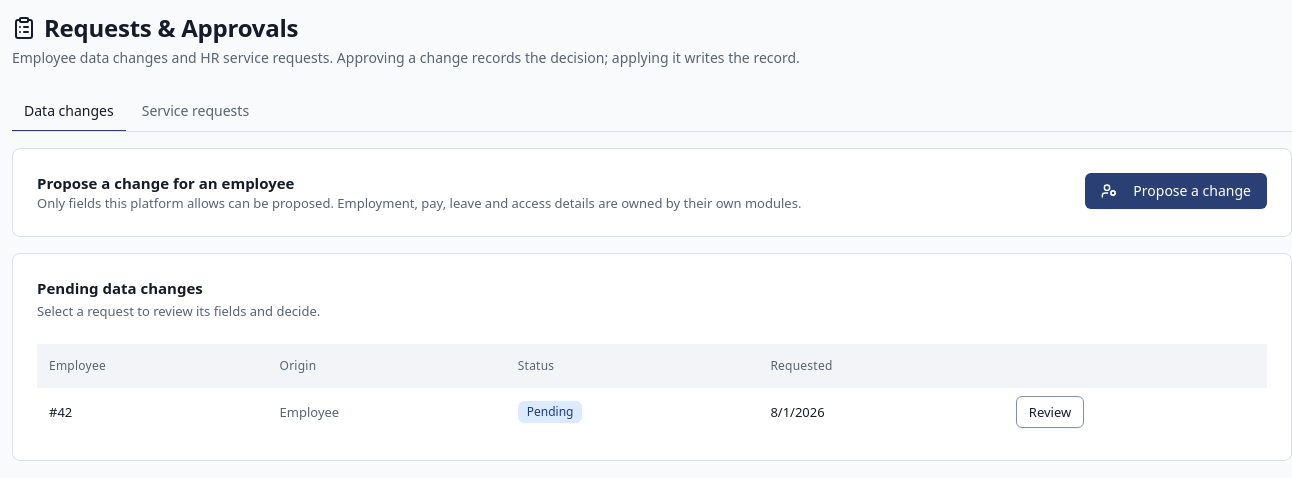
it: Requests & Approvals (HR) › rejecting a service request › offers no Reject button once a request is no longer awaiting approval
The width and height of the screenshot is (1292, 478).
Click the tab "Service requests" at (195, 112), box top-left (130, 92), bottom-right (261, 132)
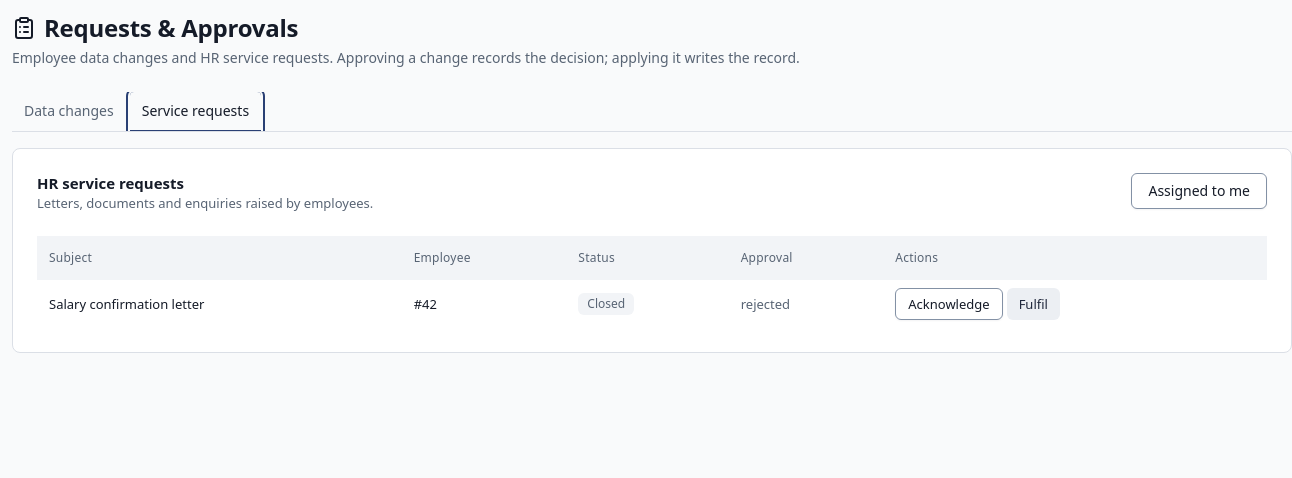
Expected: the row with test id "row-service-request-12" is shown, top-left (37, 280), bottom-right (1267, 328)
